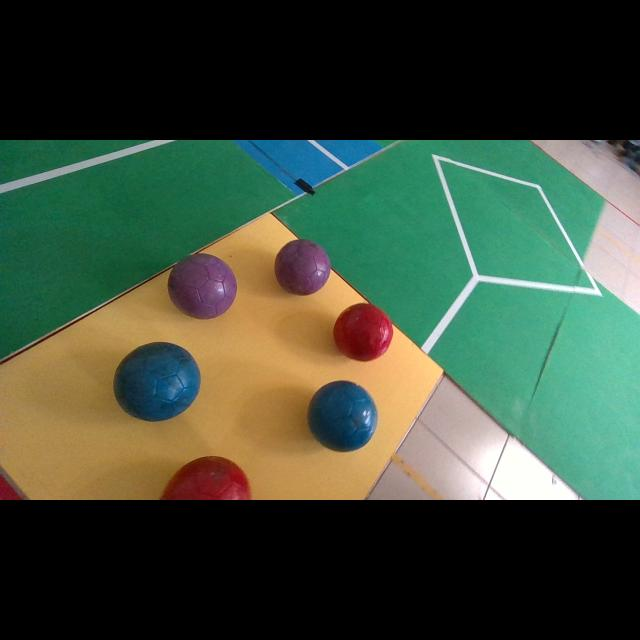B: (114, 342, 201, 421), (308, 381, 378, 451)
P: (168, 252, 236, 319), (275, 239, 331, 295)
R: (161, 456, 250, 500), (334, 304, 392, 361)
